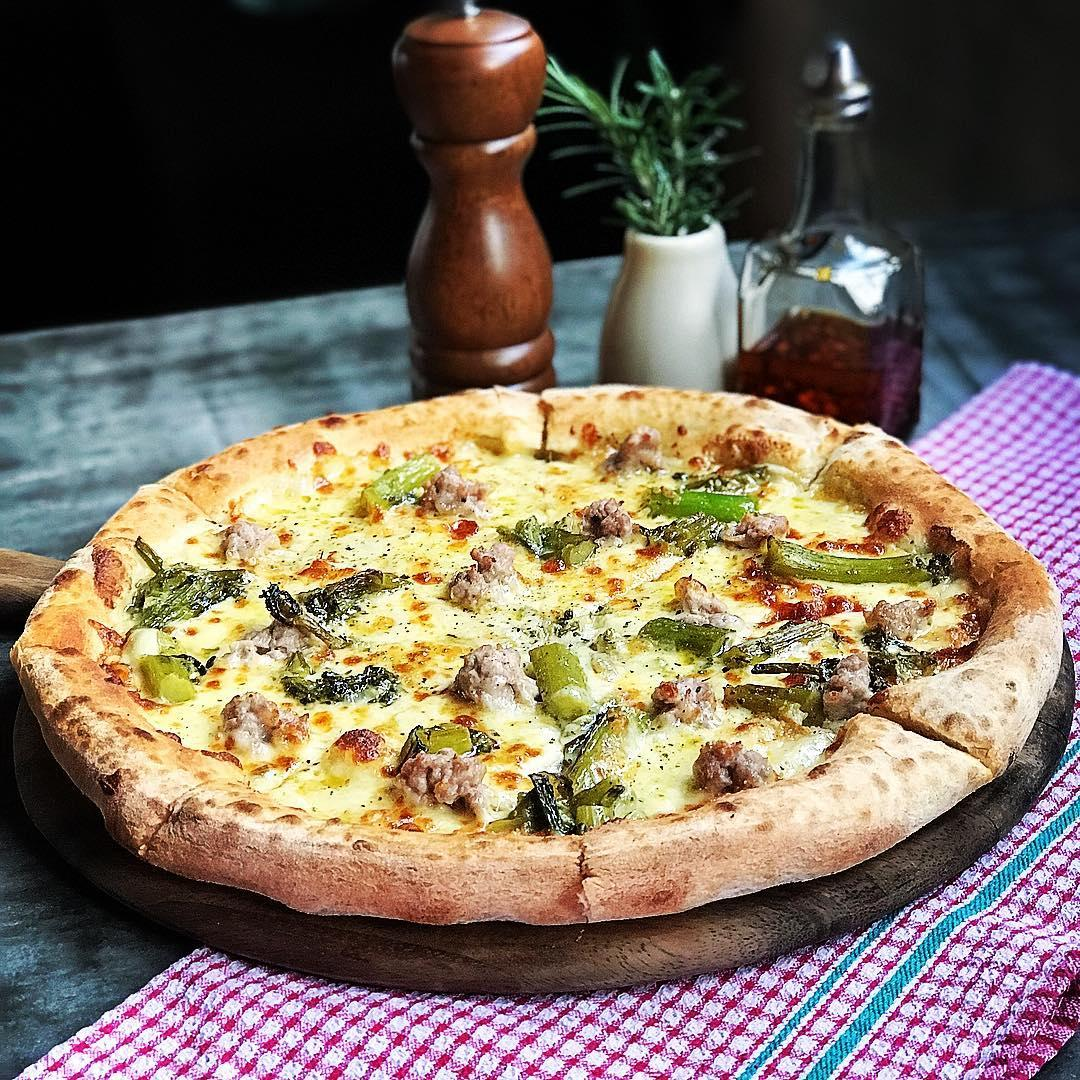Arugula: (267, 567, 412, 635), (128, 565, 251, 624), (287, 668, 399, 707), (648, 517, 729, 555), (870, 627, 873, 629)
Pizza: (37, 387, 1063, 903)
